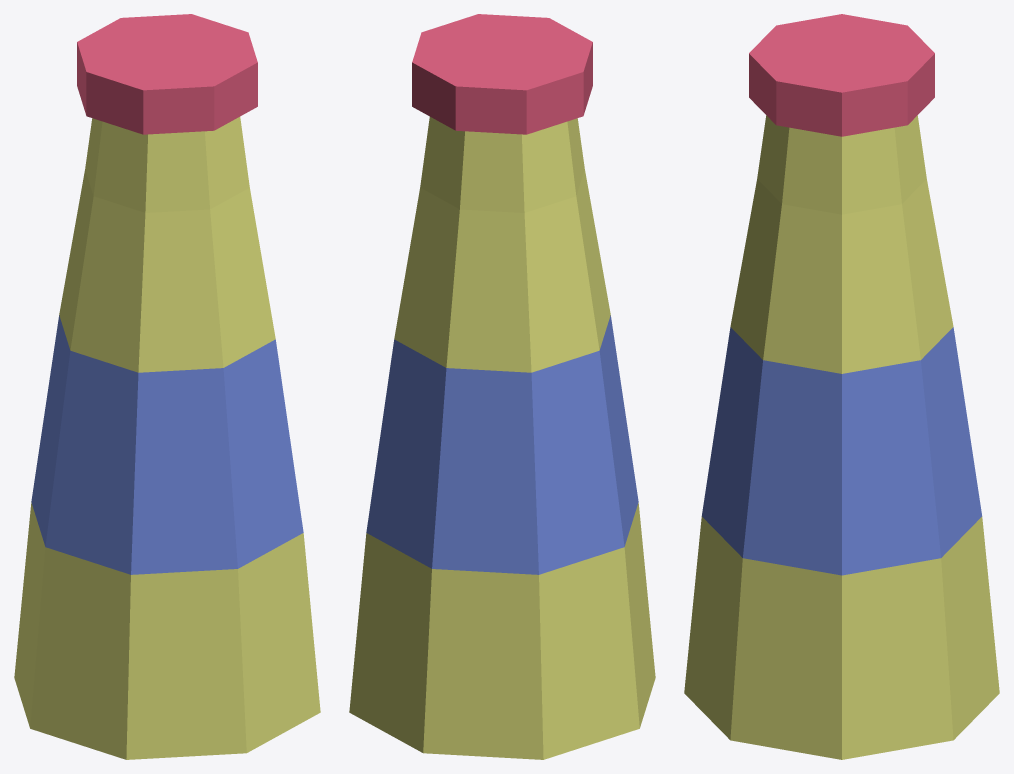
The model's file is chimney.glb.
The picture shows the model from 3 angles, left to right: view 1: azimuth 30°, elevation 25°; view 2: azimuth 150°, elevation 25°; view 3: azimuth 270°, elevation 25°; orthographic projection.
Parts seen in each view (by area): view 1: chimney-body, chimney-sec, detail.001; view 2: chimney-body, chimney-sec, detail.001; view 3: chimney-body, chimney-sec, detail.001.
Boxes of the visible parts, box(x1,y1,x2,y2) form: chimney-body: box(14, 117, 320, 759); chimney-sec: box(31, 315, 303, 574); detail.001: box(77, 14, 257, 134); chimney-body: box(349, 117, 655, 759); chimney-sec: box(366, 315, 638, 574); detail.001: box(412, 14, 592, 134); chimney-body: box(684, 115, 999, 759); chimney-sec: box(702, 327, 981, 575); detail.001: box(749, 14, 934, 136).
Bounding box in the file's own units: 2.71 × 6.07 × 2.71.
